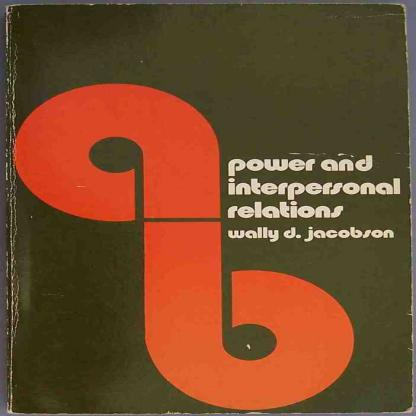book: (6, 3, 412, 414)
